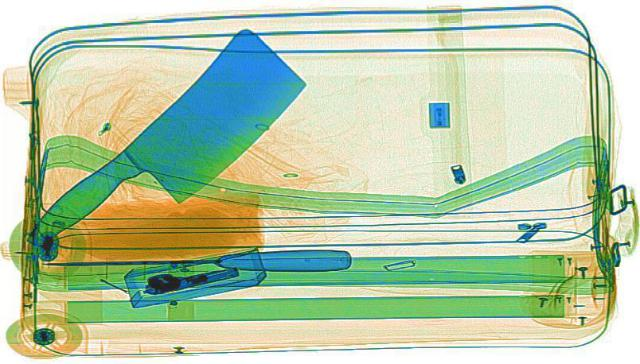Gun: (122, 254, 244, 299)
Knife: (7, 24, 346, 269), (42, 247, 350, 270)
